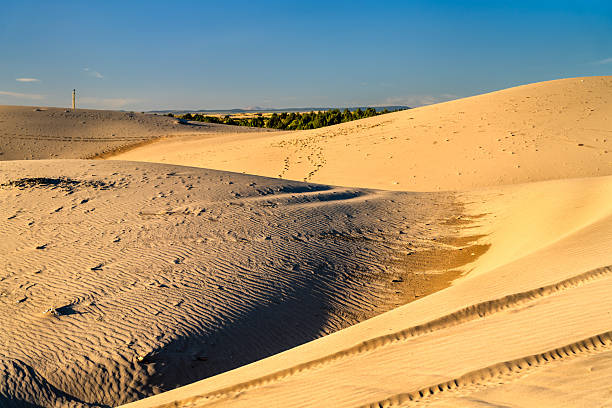vehicle_track: (181, 266, 611, 405), (362, 331, 611, 407), (7, 134, 150, 141)
